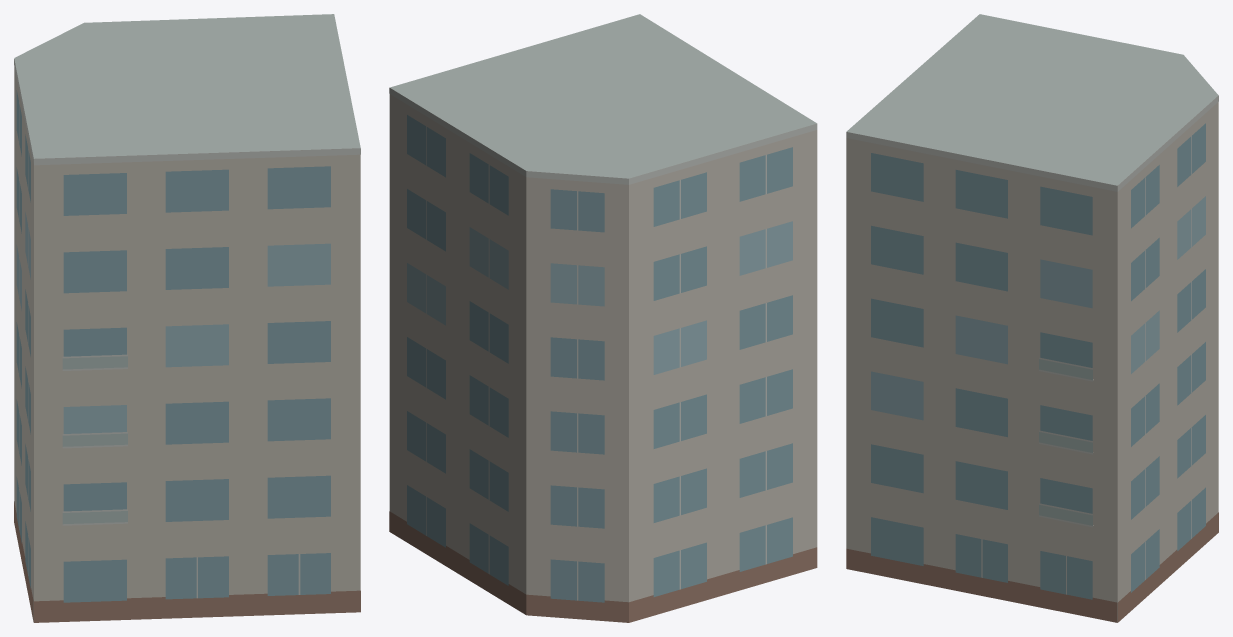
Rendered from survey-upis-32778262.glb.
3 views of the same model, side by side, from view 1: azimuth 30°, elevation 25°; view 2: azimuth 150°, elevation 25°; view 3: azimuth 270°, elevation 25° (orthographic). The views are drawn at different scales.
Parts seen in each view (by area): view 1: survey-upis-32778262.tmp; view 2: survey-upis-32778262.tmp; view 3: survey-upis-32778262.tmp.
Boxes of the visible parts, x1,y1,x2,y2 form: survey-upis-32778262.tmp: [14, 14, 360, 622]; survey-upis-32778262.tmp: [389, 14, 817, 622]; survey-upis-32778262.tmp: [846, 14, 1218, 622].
Bounding box in the file's own units: 14.59 × 17.3 × 13.37.
